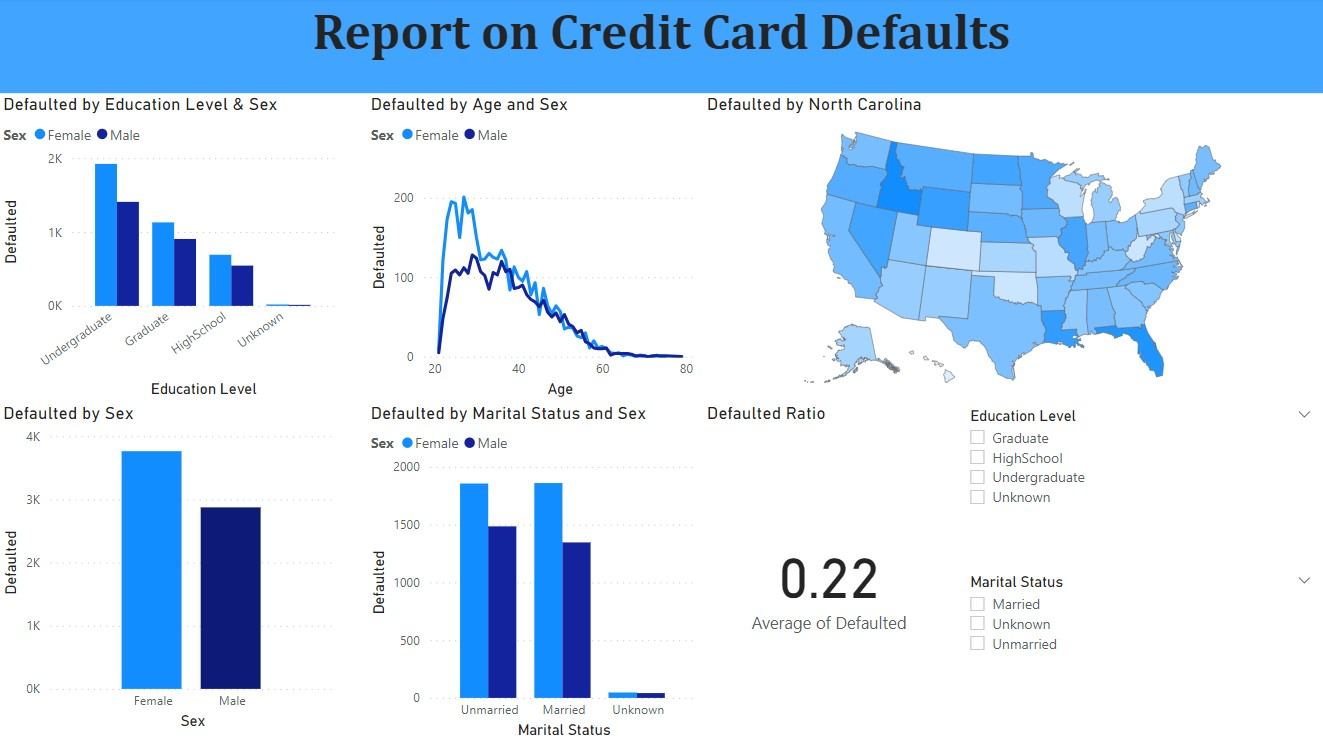

The dashboard page shown, as its layout file describes it:
{"tool":"powerbi","page":{"name":"Page 1","canvas":[1280,720],"ordinal":0},"visuals":[{"type":"clusteredColumnChart","title":"Defaulted by Education Level & Sex","fields":{"Category":["Data.EDUCATION LEVEL"],"Y":["Sum(Data.DEFAULEDd)"],"Series":["Data.SEX"]},"box":[0,92.9,330.5,297.9],"z":0},{"type":"lineChart","fields":{"Category":["Data.AGE"],"Y":["Sum(Data.DEFAULEDd)"],"Series":["Data.SEX"]},"box":[354.6,92.9,324.4,297.9],"z":1000},{"type":"clusteredColumnChart","fields":{"Y":["Sum(Data.DEFAULEDd)"],"Category":["Data.SEX"]},"box":[0,390.8,330.5,320.8],"z":2000},{"type":"shapeMap","fields":{"Category":["Data.North Carolina"],"Value":["Sum(Data.DEFAULEDd)"]},"box":[679,92.9,600.6,297.9],"z":3000},{"type":"lineClusteredColumnComboChart","fields":{"Category":["Data.Marital Status"],"Y":["Sum(Data.DEFAULEDd)"],"Series":["Data.SEX"]},"box":[354.6,390.8,325.6,329.2],"z":4000},{"type":"card","title":"Defaulted Ratio","fields":{"Values":["Avg(Data.DEFAULEDd)"]},"box":[679,390.8,246,329.2],"z":5000},{"type":"slicer","fields":{"Values":["Data.EDUCATION LEVEL"]},"box":[925,390.8,354.6,160.4],"z":6000},{"type":"slicer","fields":{"Values":["Data.Marital Status"]},"box":[925,551.2,354.6,160.4],"z":7000},{"type":"textbox","box":[0,0,1279.6,92.9],"z":8000}]}

Visuals, with their boxes in screenshot pixels (x1, y1, x2, y2), scaled from the page's 1280x720 canvas onto the 1323x741 screenshot:
"Defaulted by Education Level & Sex" clusteredColumnChart: rect(0, 96, 342, 402)
lineChart - Data.AGE x Sum(Data.DEFAULEDd): rect(367, 96, 702, 402)
clusteredColumnChart - Sum(Data.DEFAULEDd) x Data.SEX: rect(0, 402, 342, 732)
shapeMap - Data.North Carolina x Sum(Data.DEFAULEDd): rect(702, 96, 1322, 402)
lineClusteredColumnComboChart - Data.Marital Status x Sum(Data.DEFAULEDd): rect(367, 402, 703, 740)
"Defaulted Ratio" card: rect(702, 402, 956, 740)
slicer - Data.EDUCATION LEVEL: rect(956, 402, 1322, 567)
slicer - Data.Marital Status: rect(956, 567, 1322, 732)
textbox: rect(0, 0, 1322, 96)
